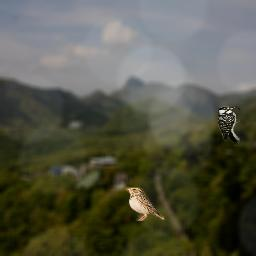Sparrow: (125, 187, 165, 221)
Woodpecker: (218, 106, 240, 146)
